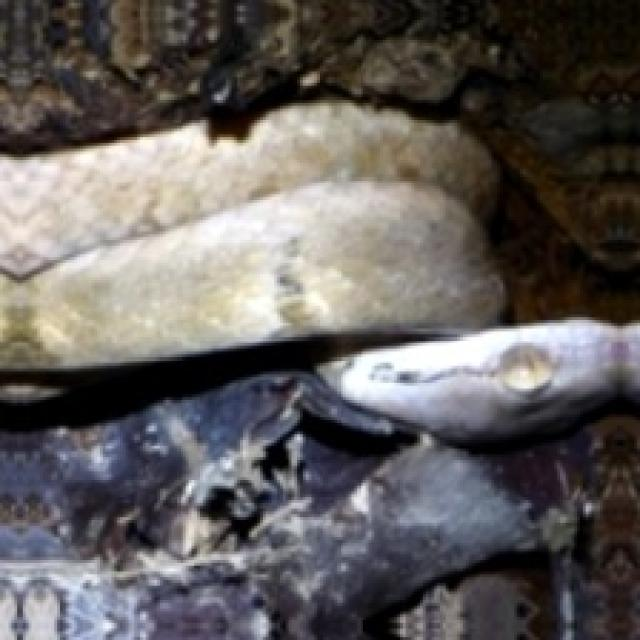dog-toothed cat snake: (0, 101, 504, 372), (322, 320, 640, 443)
